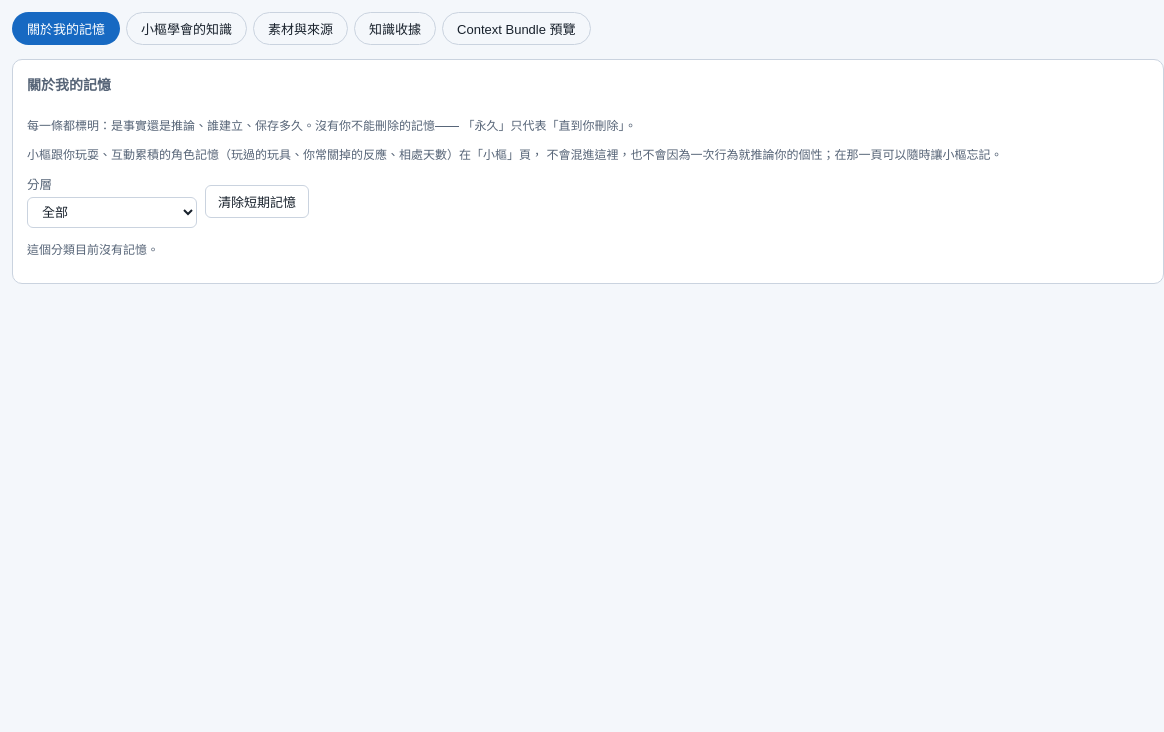
it: 記憶與知識分層（一般模式只有三區） › advanced=true：完整五個分頁與技術面板都還在（零能力退化）
Step 1. Click the tab "小樞學會的知識" → (186,28), box [126,12,247,45]
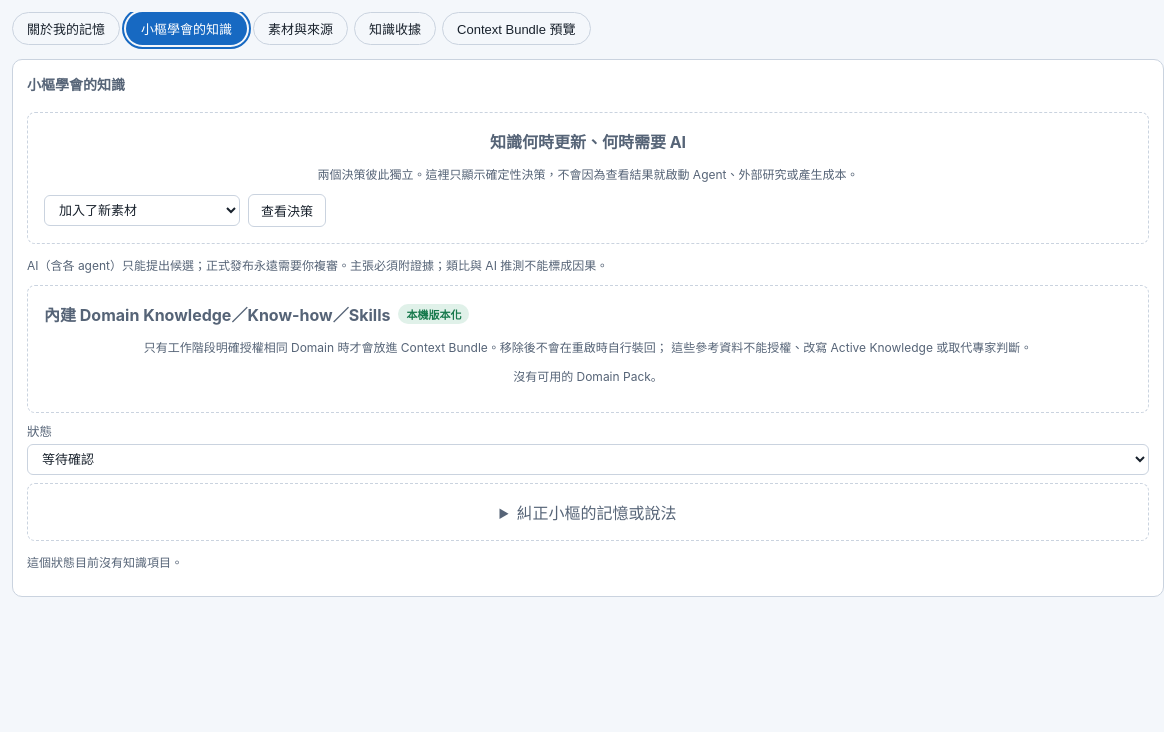
Expected: the text "知識何時更新、何時需要 AI" is shown, [490,132,686,152]
